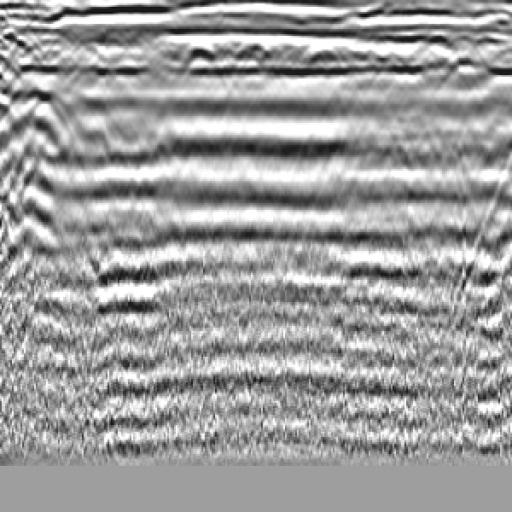non-metallic: (4, 34, 89, 325)
